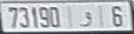0: (49, 6, 61, 28)
1: (31, 6, 40, 29)
3: (18, 7, 30, 28)
6: (111, 6, 123, 28)
7: (8, 7, 18, 28)
9: (39, 6, 50, 28)
waw: (79, 11, 93, 28)
